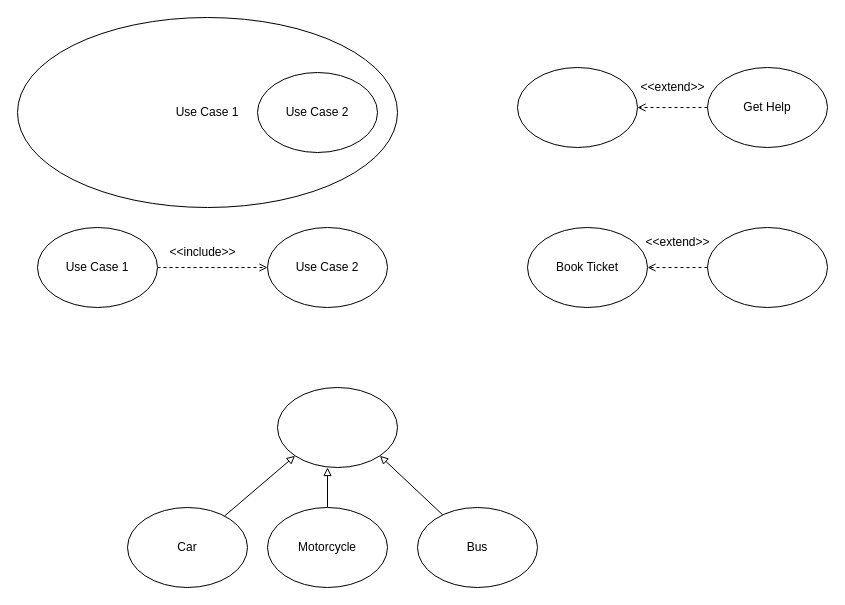
Image size: 845x605. Some labels were removed from this diagram. The centre of each missing label's shape, as x and y in pixels:
"Feedback" belongs at point (767, 267).
"Fill Form" belongs at point (577, 107).
"Vehicle" belongs at point (337, 427).
